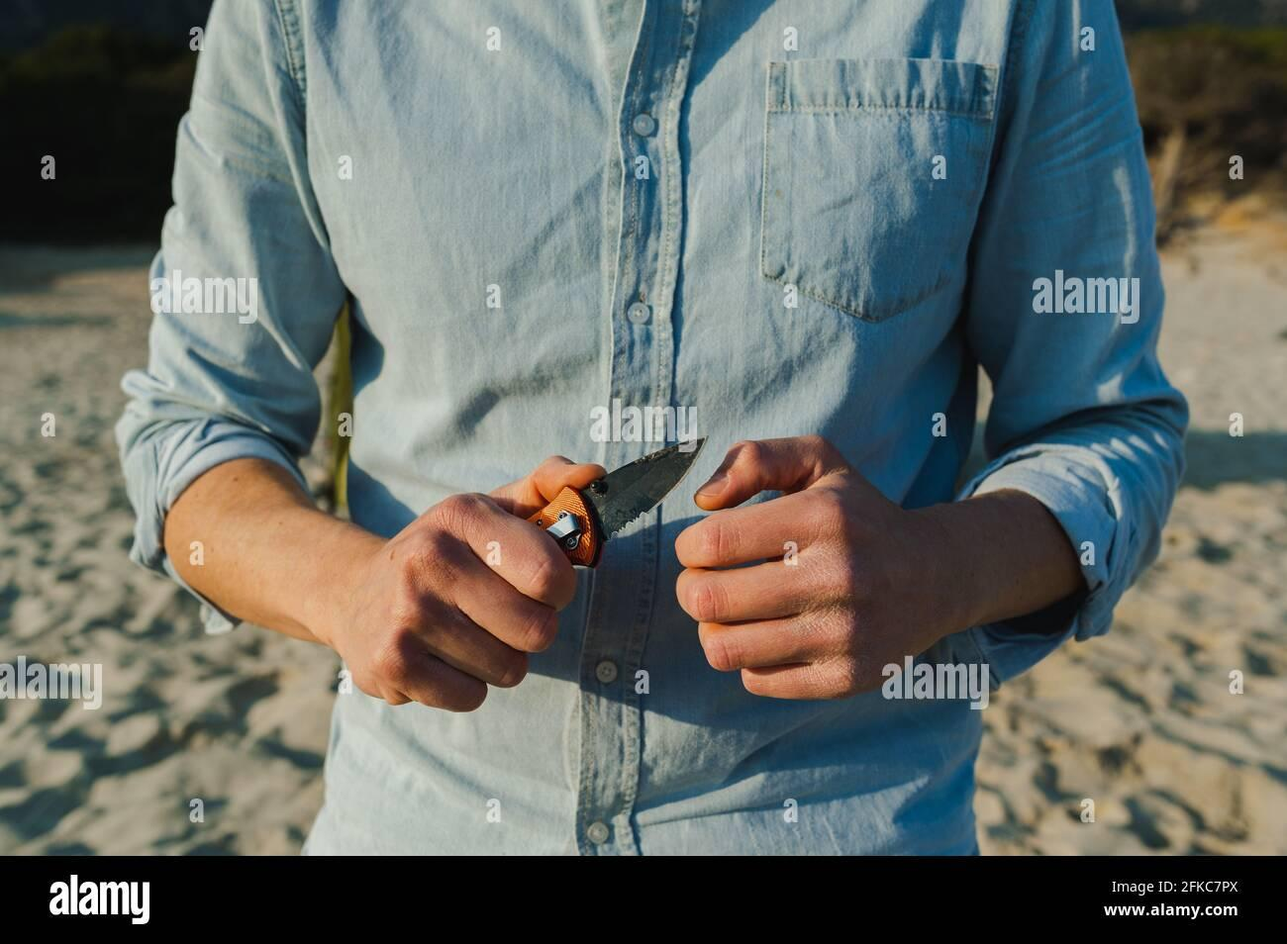Knife: (118, 0, 1189, 855), (351, 456, 600, 711), (542, 435, 712, 555)
